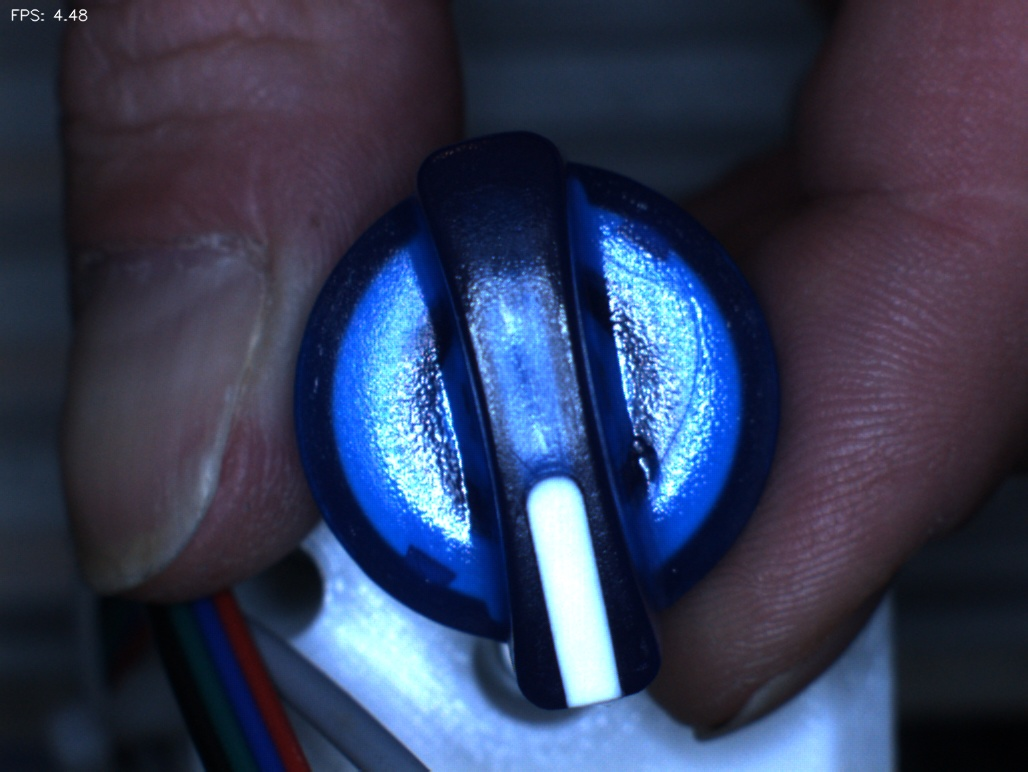Choc: (600, 420, 681, 501)
